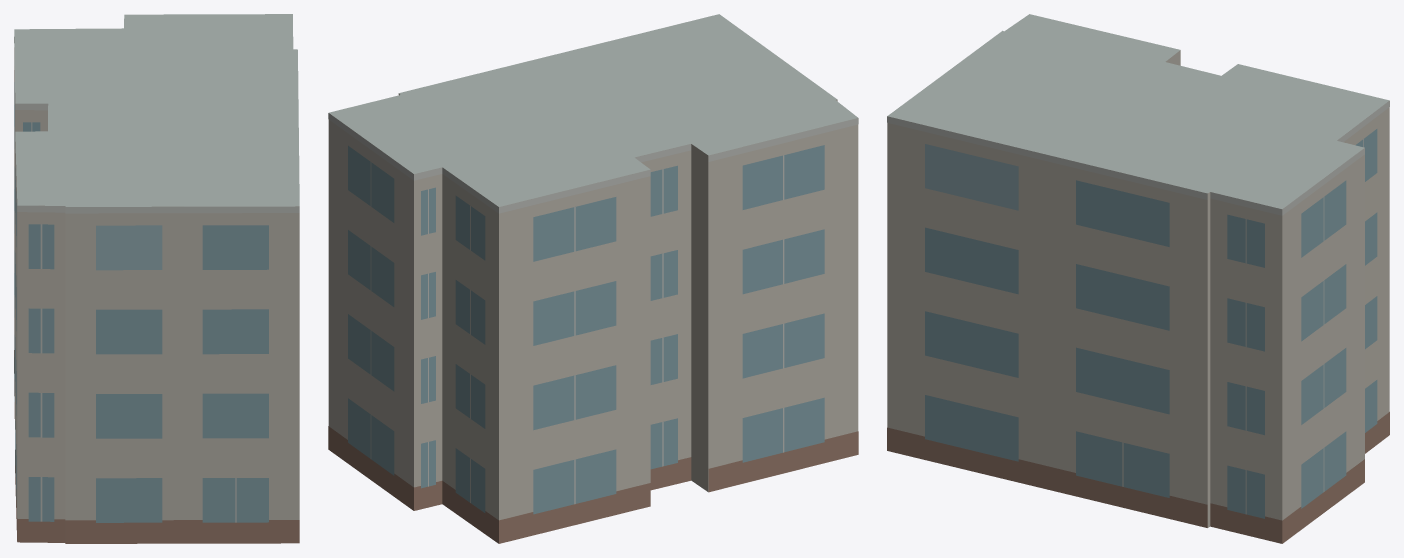
File: survey-upis-32653112.glb
3 views of the same model, side by side, from view 1: azimuth 30°, elevation 25°; view 2: azimuth 150°, elevation 25°; view 3: azimuth 270°, elevation 25° (orthographic).
Visible parts, largest first — view 1: survey-upis-32653112.tmp; view 2: survey-upis-32653112.tmp; view 3: survey-upis-32653112.tmp.
Boxes of the visible parts, x1,y1,x2,y2 form: survey-upis-32653112.tmp: (14,14,299,543); survey-upis-32653112.tmp: (328,14,858,543); survey-upis-32653112.tmp: (887,14,1389,543).
Size of the model in its own units: 15.65 by 12.5 by 17.02.
